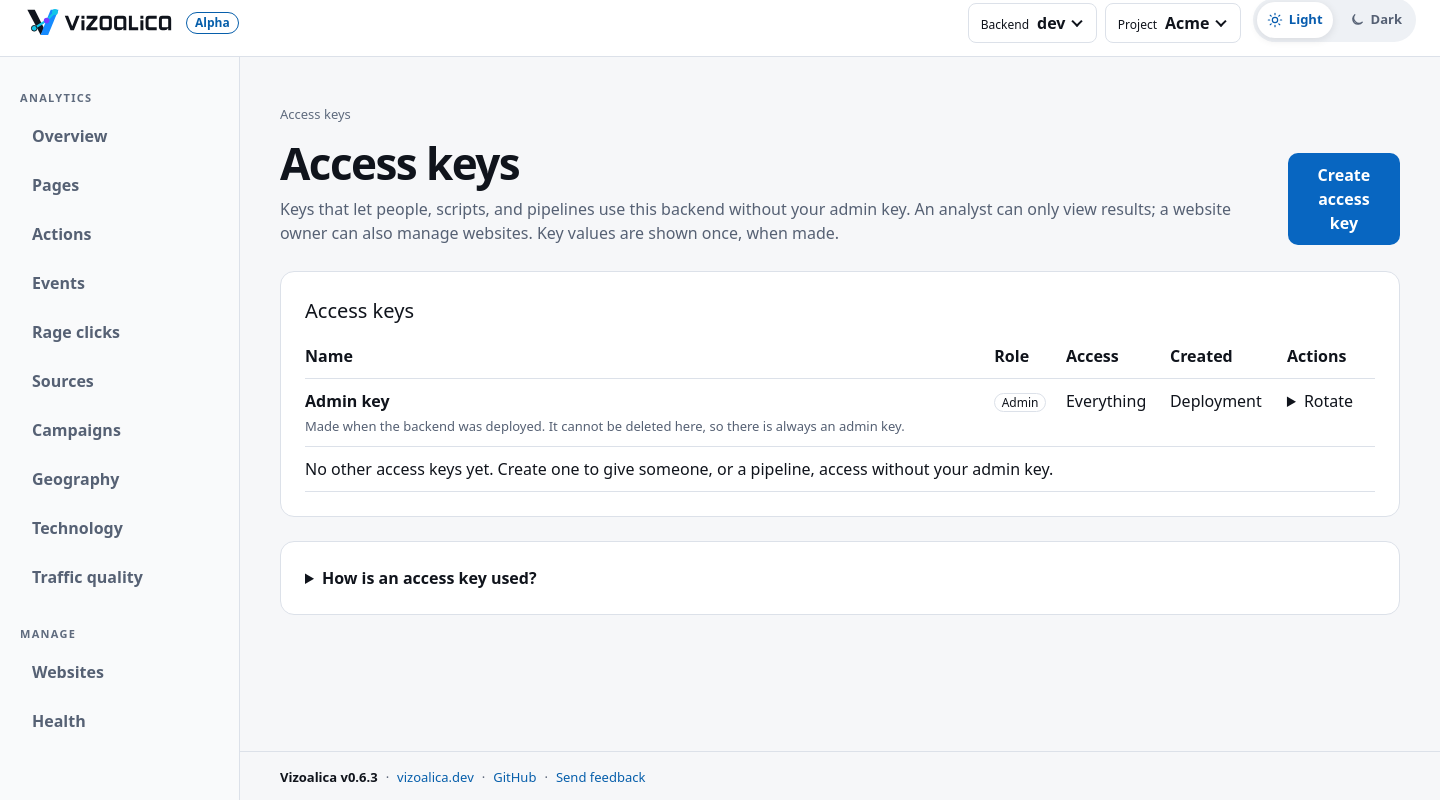
Create an access key › starts with the least access: one project, the one chosen at the top
Check: the 1st heading "Access keys" is shown, box [280,132,519,192]
What coordinates should you click on to do the following:
click the button "Create access key"
I would click on:
 (1344, 199)
Its box is [1288,153,1400,245].
(page scrolled)
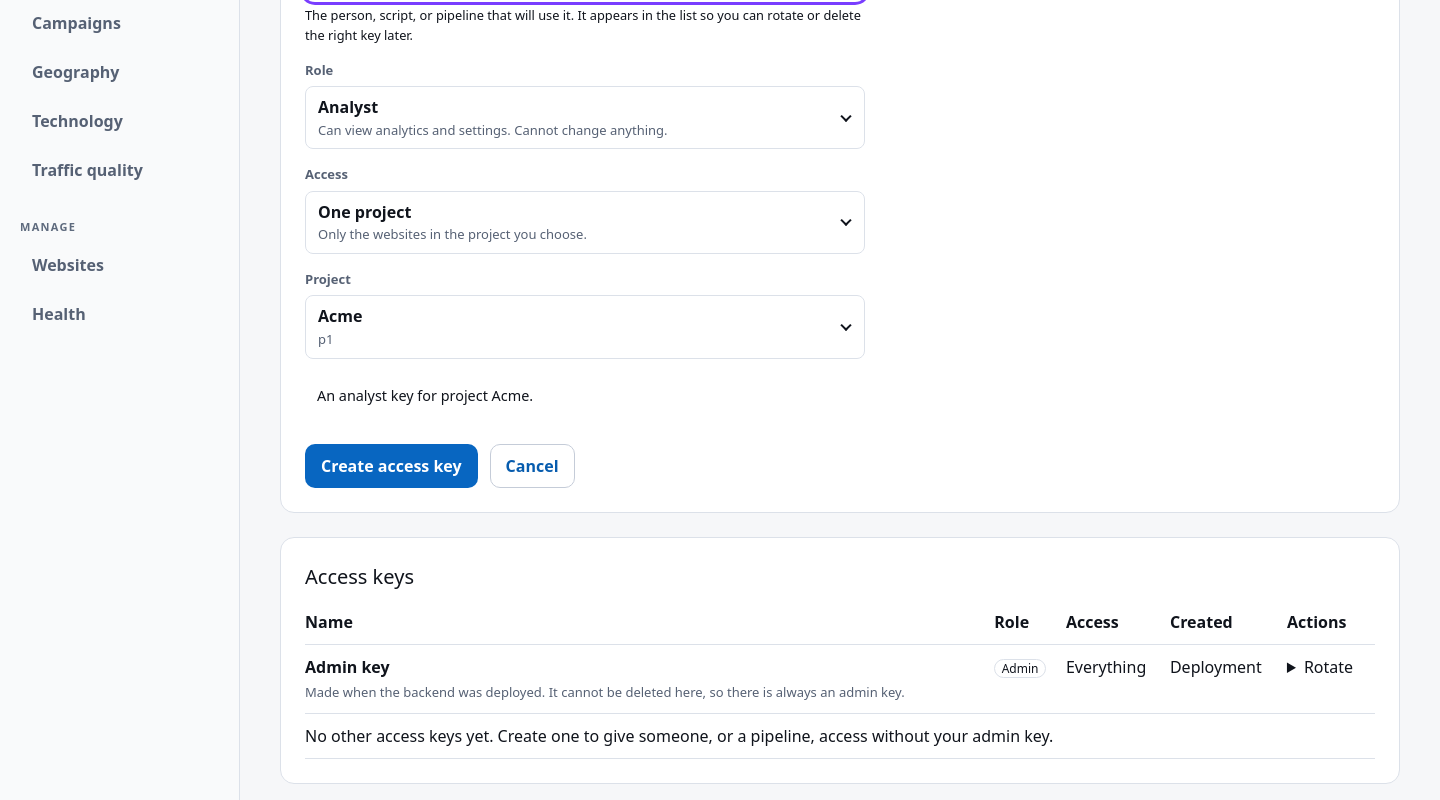
Check: the button named "Access" shows "One project", box [305,191,865,254]
Check: the button named "Project" shows "Acme", box [305,296,865,359]
Check: the text "An analyst key for project Acme." is shown, box [317,386,533,404]
